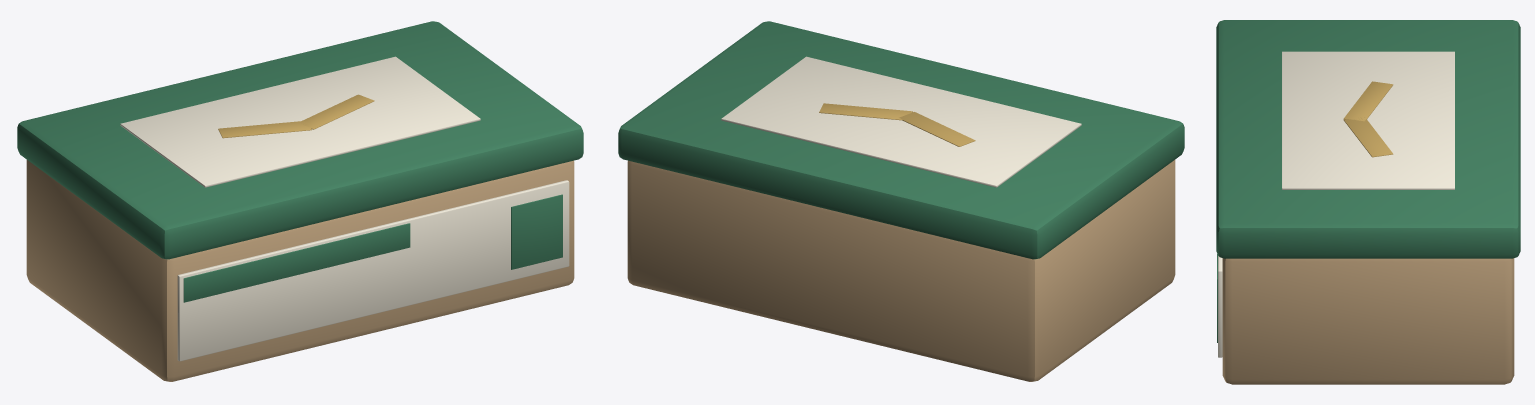
File: checkout_product_shoe_box.glb
The picture shows the model from 3 angles, left to right: view 1: azimuth 30°, elevation 25°; view 2: azimuth 150°, elevation 25°; view 3: azimuth 270°, elevation 25°; orthographic projection.
Parts seen in each view (by area): view 1: ShoeBoxLid, ShoeBoxBase, ShoeBoxFrontLabel, ShoeBoxLidTopPanel, ShoeBoxBrandBand, ShoeBoxSizeBadge, ShoeBoxLidCrest_L, ShoeBoxLidCrest_R; view 2: ShoeBoxBase, ShoeBoxLid, ShoeBoxLidTopPanel, ShoeBoxLidCrest_L, ShoeBoxLidCrest_R; view 3: ShoeBoxLid, ShoeBoxBase, ShoeBoxLidTopPanel, ShoeBoxLidCrest_L, ShoeBoxLidCrest_R, ShoeBoxFrontLabel.
Boxes of the visible parts, <box> form: ShoeBoxLid: <box>17,21,583,259</box>; ShoeBoxBase: <box>26,160,574,381</box>; ShoeBoxFrontLabel: <box>177,180,569,361</box>; ShoeBoxLidTopPanel: <box>120,56,480,187</box>; ShoeBoxBrandBand: <box>183,223,410,302</box>; ShoeBoxSizeBadge: <box>511,194,562,269</box>; ShoeBoxLidCrest_L: <box>218,120,311,138</box>; ShoeBoxLidCrest_R: <box>301,94,374,129</box>; ShoeBoxBase: <box>627,160,1175,381</box>; ShoeBoxLid: <box>618,21,1184,259</box>; ShoeBoxLidTopPanel: <box>721,56,1081,187</box>; ShoeBoxLidCrest_L: <box>899,112,975,146</box>; ShoeBoxLidCrest_R: <box>819,103,912,120</box>; ShoeBoxLid: <box>1216,20,1520,258</box>; ShoeBoxBase: <box>1222,258,1514,384</box>; ShoeBoxLidTopPanel: <box>1282,51,1454,189</box>; ShoeBoxLidCrest_L: <box>1343,81,1393,121</box>; ShoeBoxLidCrest_R: <box>1343,117,1393,157</box>; ShoeBoxFrontLabel: <box>1218,255,1222,357</box>.
Size of the model in its own units: 0.31 by 0.115 by 0.19.
